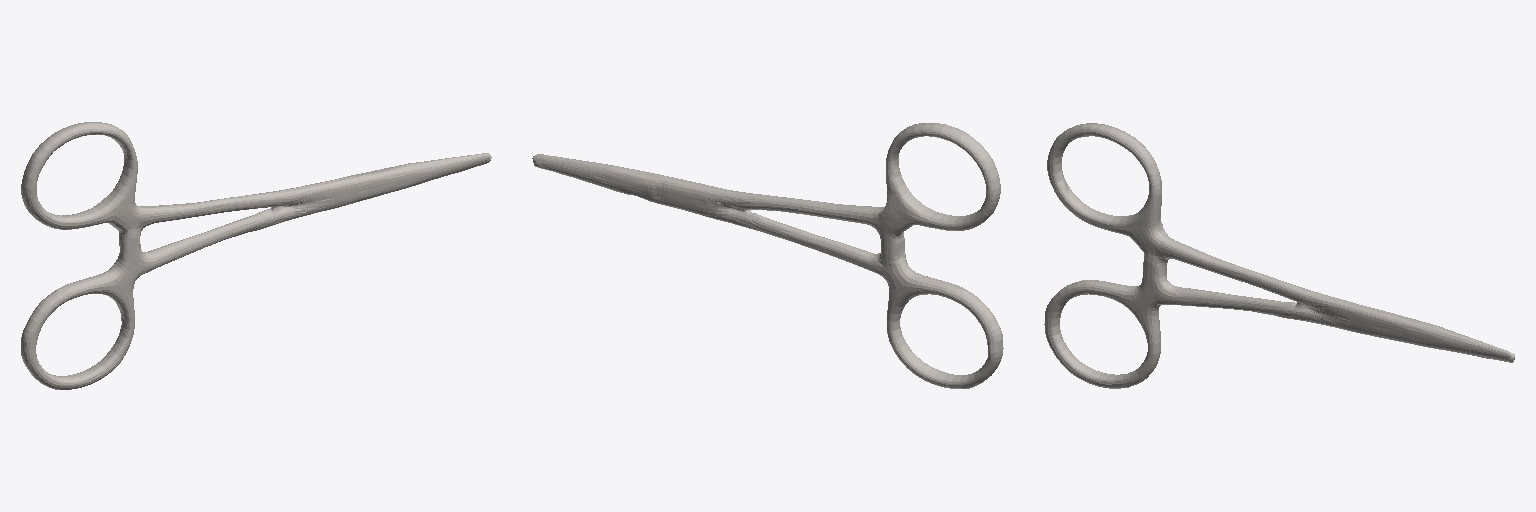
URDF robot description (Tooling_8):
<?xml version="1.0" encoding="utf-8"?>
<!-- This URDF was automatically created by SolidWorks to URDF Exporter! Originally created by Stephen Brawner (brawner@gmail.com)
     Commit Version: 1.6.0-4-g7f85cfe  Build Version: 1.6.7995.38578
     For more information, please see http://wiki.ros.org/sw_urdf_exporter -->
<robot
  name="Tooling_8">
  <link
    name="base_link">
    <inertial>
      <origin
        xyz="-9.9299E-06 6.2788E-05 -7.3824E-05"
        rpy="0 0 0" />
      <mass
        value="0.036592" />
      <inertia
        ixx="7.6104E-06"
        ixy="7.3953E-08"
        ixz="1.8952E-07"
        iyy="4.1364E-05"
        iyz="1.1767E-08"
        izz="4.888E-05" />
    </inertial>
    <visual>
      <origin
        xyz="0 0 0"
        rpy="0 0 0" />
      <geometry>
        <mesh
          filename="../meshes/base_link.STL" />
      </geometry>
      <material
        name="">
        <color
          rgba="0.77647 0.75686 0.73725 1" />
      </material>
    </visual>
    <collision>
      <origin
        xyz="0 0 0"
        rpy="0 0 0" />
      <geometry>
        <mesh
          filename="../meshes/base_link.STL" />
      </geometry>
    </collision>
  </link>
</robot>

--- Facts derived from the render (not from the file) ---
The picture shows the robot from 3 angles, left to right: view 1: azimuth 30°, elevation 25°; view 2: azimuth 150°, elevation 25°; view 3: azimuth 330°, elevation 25°; orthographic projection.
Model Tooling_8 with 1 links and 0 joints (none), rooted at base_link, posed all joints at 0.
Links seen in each view (by area): view 1: base_link; view 2: base_link; view 3: base_link.
Boxes of the visible links, bbox=[...] form: base_link: bbox=[21, 122, 491, 389]; base_link: bbox=[532, 123, 1003, 388]; base_link: bbox=[1044, 123, 1514, 388].
Bounding box of the posed robot: 0.129 × 0.0053 × 0.0688 m (x, y, z).
1 mesh visuals loaded from 1 distinct referenced files (1 binary STL).
